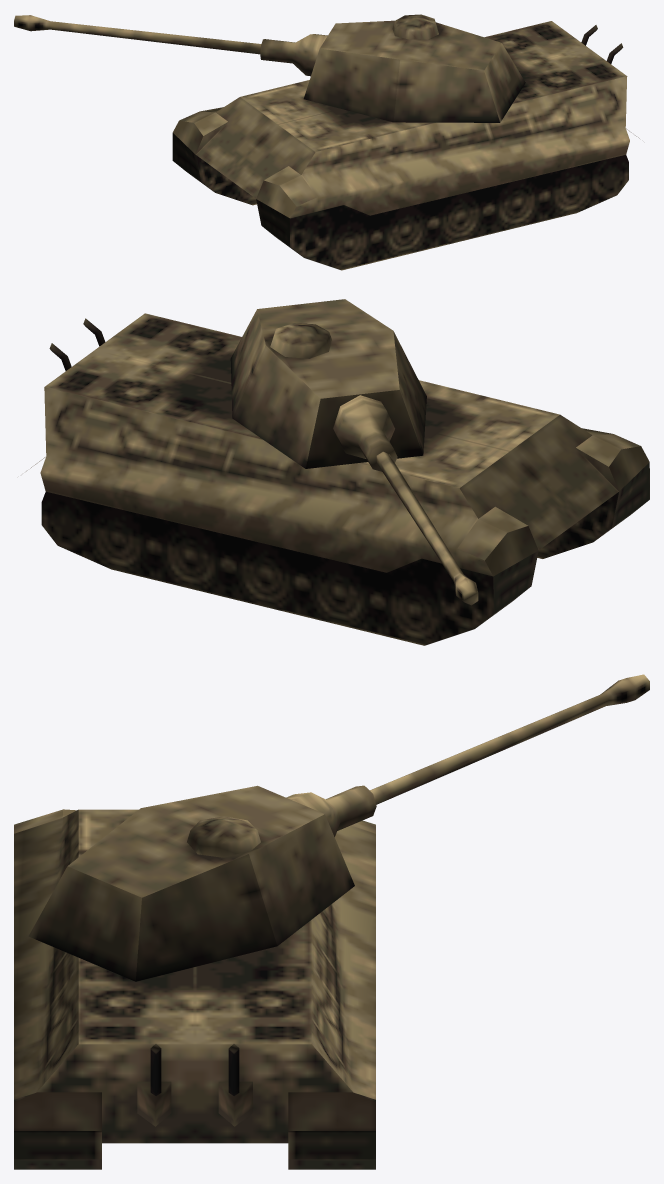
Rendered from ic0.ico.obj.
3 views of the same model, one above another, from view 1: azimuth 30°, elevation 25°; view 2: azimuth 150°, elevation 25°; view 3: azimuth 270°, elevation 25° (orthographic). The views are drawn at different scales.
Bounding box in the file's own units: 4.4 × 1.57 × 3.49.
Materials: 1 (1 with a texture image).
